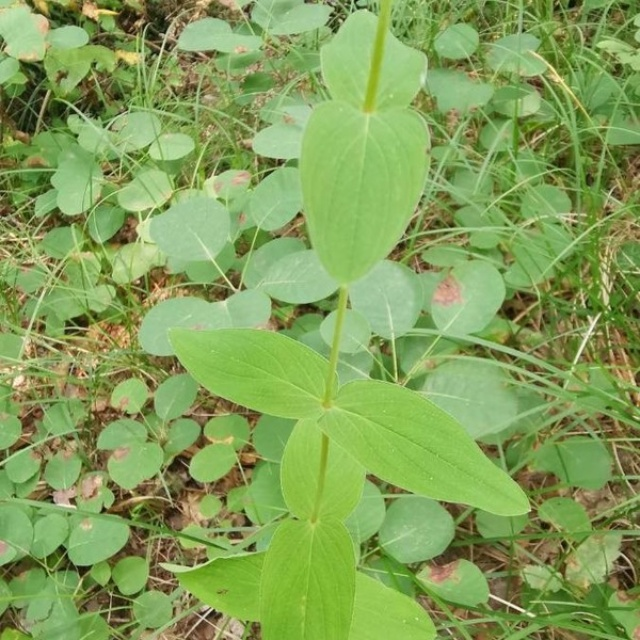obstacle: (103, 63, 509, 608)
